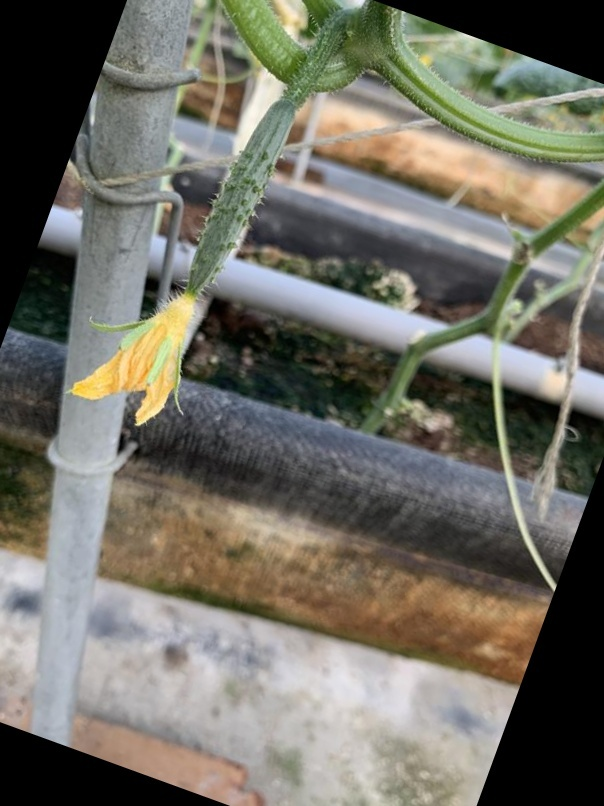bear: (64, 72, 313, 438)
